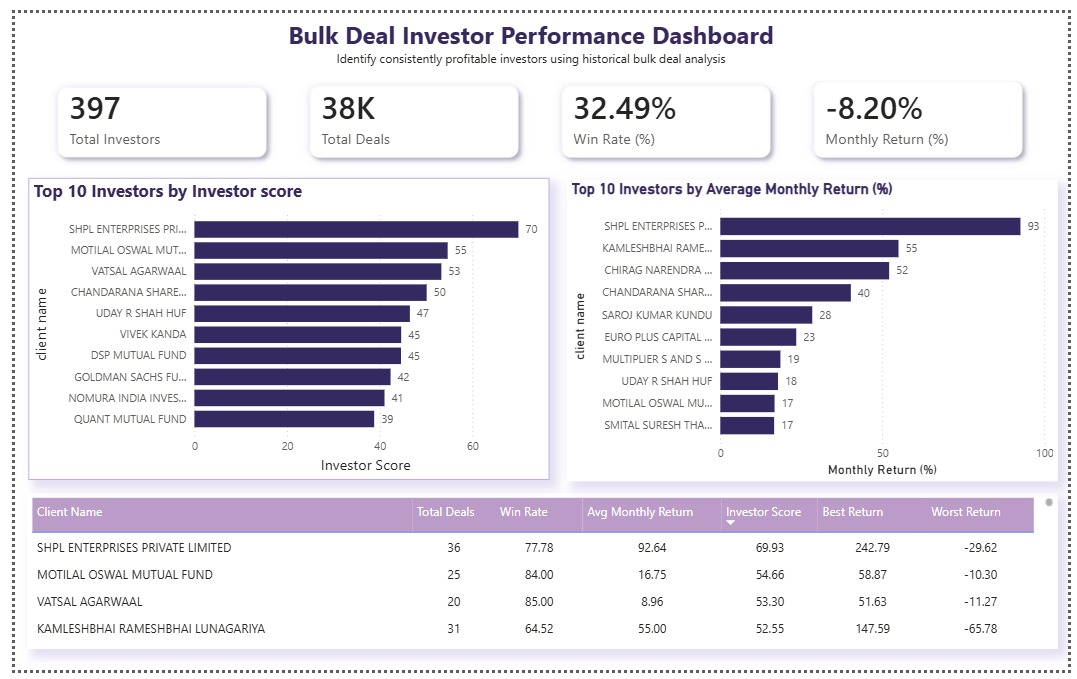

What the dashboard file says about the page in this screenshot:
{"tool":"powerbi","page":{"name":"Investor Performance","canvas":[1170,730],"ordinal":0},"visuals":[{"type":"tableEx","fields":{"Values":["vw_top_investors.client_name","Sum(vw_top_investors.total_deals)","vw_top_investors.win_rate","vw_top_investors.avg_return_pct","vw_top_investors.Investor Score","vw_top_investors.best_return","vw_top_investors.worst_return"]},"box":[13.3,533.3,1145,173.3],"z":0},{"type":"cardVisual","fields":{"Data":["Count(vw_top_investors.client_name)"]},"box":[23.3,58.3,280,126.7],"z":1000},{"type":"cardVisual","fields":{"Data":["Sum(vw_top_investors.total_deals)"]},"box":[303.3,56.7,280,128.3],"z":2000},{"type":"cardVisual","fields":{"Data":["vw_top_investors.Average Win Rate"]},"box":[583.3,56.7,280,128.3],"z":3000},{"type":"cardVisual","fields":{"Data":["vw_top_investors.Average Monthly Return"]},"box":[863.3,51.7,280,133.3],"z":4000},{"type":"clusteredBarChart","title":"Top 10 Investors by Investor score ","fields":{"Category":["vw_top_investors.client_name"],"Y":["vw_top_investors.Investor Score"]},"box":[15,183.3,578.3,335],"z":5000},{"type":"clusteredBarChart","title":"Top 10 Investors by Average Monthly Return (%)","fields":{"Category":["vw_top_investors.client_name"],"Y":["Sum(vw_top_investors.avg_return_pct)"]},"box":[613.3,185,545,335],"z":6000},{"type":"textbox","box":[13.3,0,1120,75],"z":7000}]}

Visuals, with their boxes in screenshot pixels (x1, y1, x2, y2), scaled from the page's 1170x730 canvas onto the 1077x679 screenshot:
tableEx - vw_top_investors.client_name x Sum(vw_top_investors.total_deals): (12, 496, 1066, 657)
cardVisual - Count(vw_top_investors.client_name): (21, 54, 279, 172)
cardVisual - Sum(vw_top_investors.total_deals): (279, 53, 537, 172)
cardVisual - vw_top_investors.Average Win Rate: (537, 53, 795, 172)
cardVisual - vw_top_investors.Average Monthly Return: (795, 48, 1052, 172)
"Top 10 Investors by Investor score " clusteredBarChart: (14, 170, 546, 482)
"Top 10 Investors by Average Monthly Return (%)" clusteredBarChart: (565, 172, 1066, 484)
textbox: (12, 0, 1043, 70)
